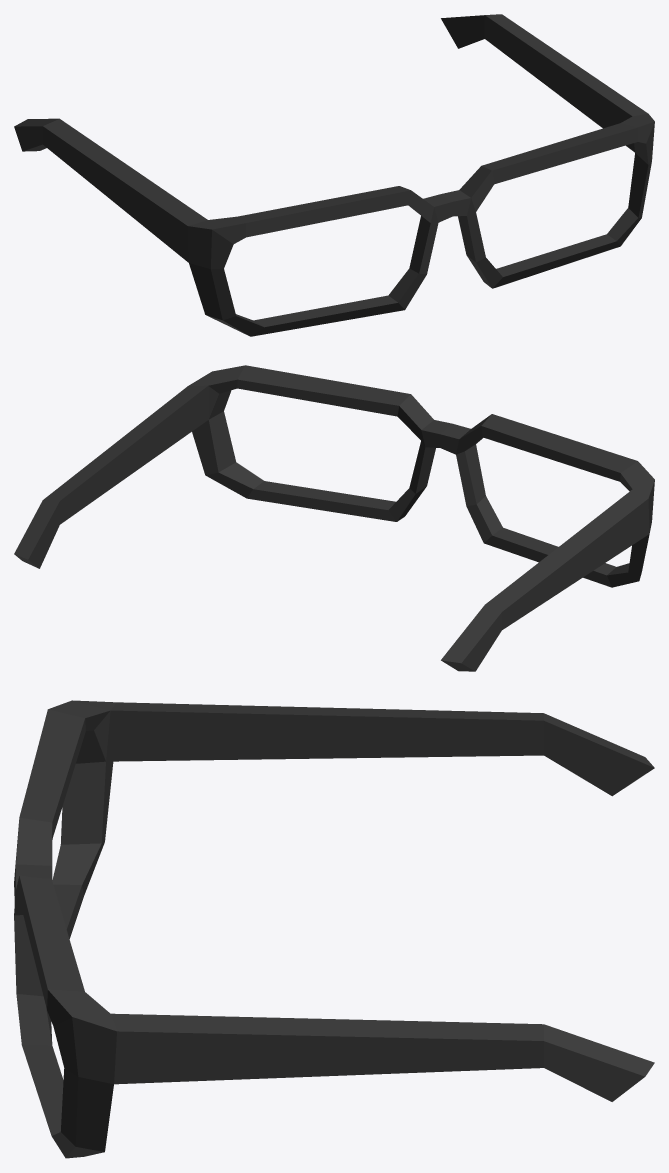
File: Glasses1.fbx
The picture shows the model from 3 angles, top to bottom: view 1: azimuth 30°, elevation 25°; view 2: azimuth 150°, elevation 25°; view 3: azimuth 270°, elevation 25°; orthographic projection. The views are drawn at different scales.
Parts seen in each view (by area): view 1: Glasses1; view 2: Glasses1; view 3: Glasses1.
Boxes of the visible parts, box(x1,y1,x2,y2) form: Glasses1: box(14, 14, 654, 336); Glasses1: box(14, 365, 654, 671); Glasses1: box(14, 700, 654, 1158).
Size of the model in its own units: 0.2148 by 0.0548 by 0.1768.
